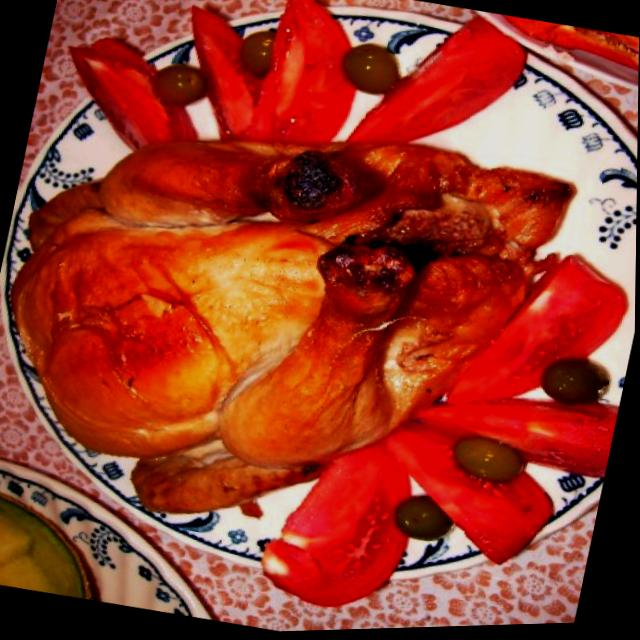鸡肉料理 含炸鸡: (0, 60, 599, 592)
